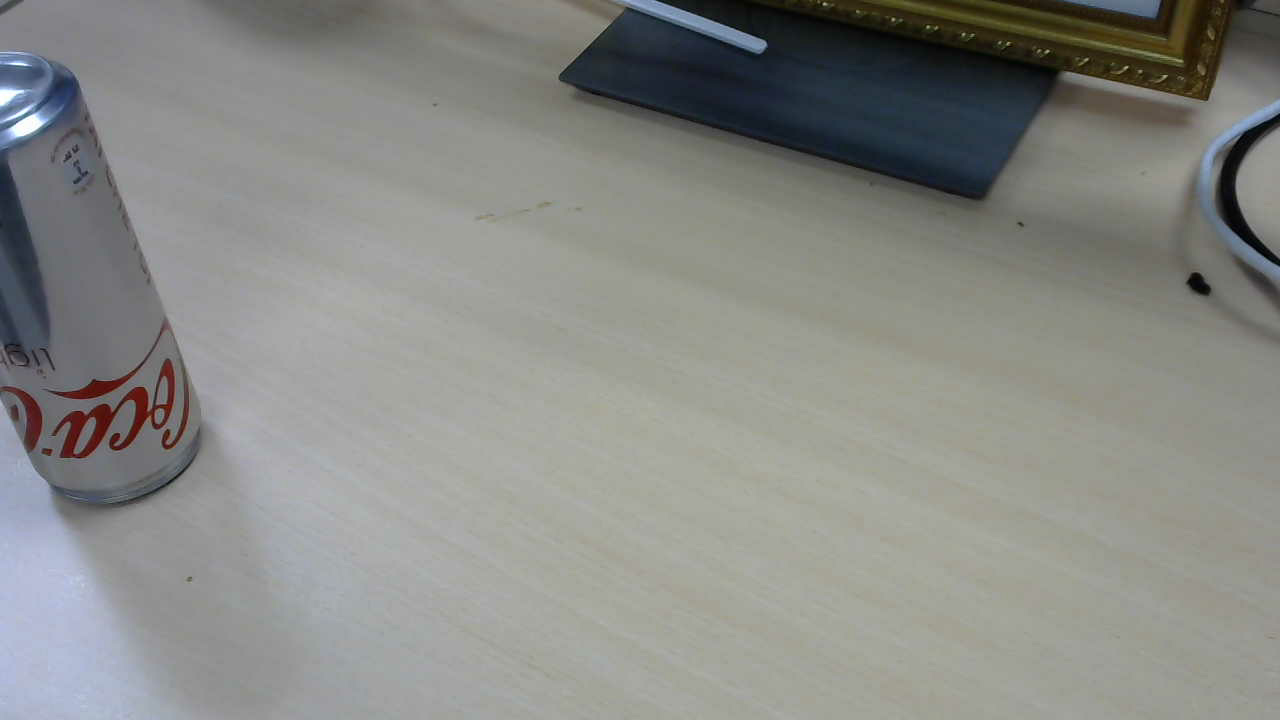Coca_Cola: (7, 53, 212, 510)
